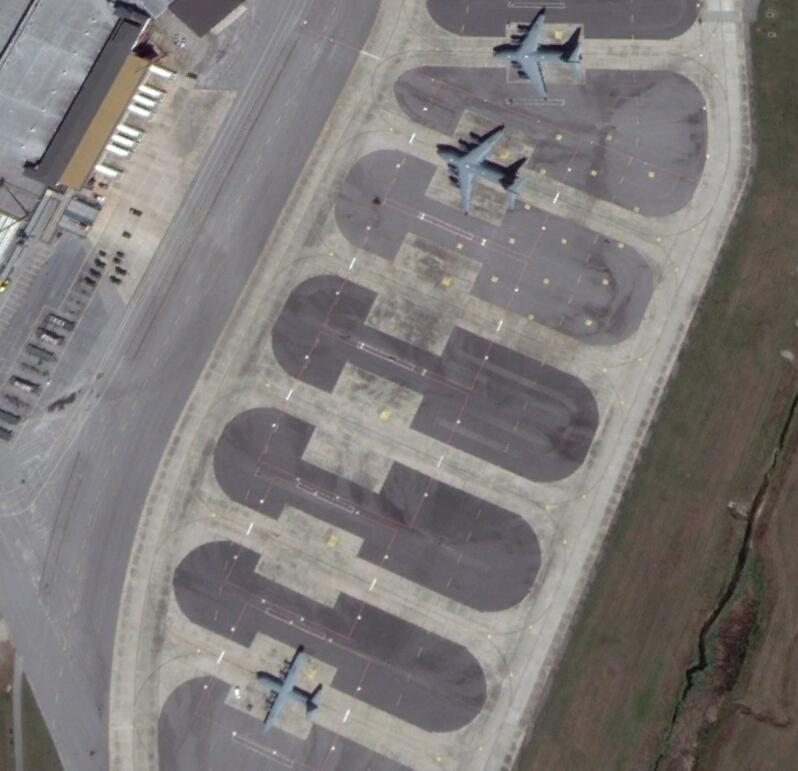A2: (254, 645, 325, 731)
A3: (436, 126, 529, 217), (494, 11, 587, 101)
